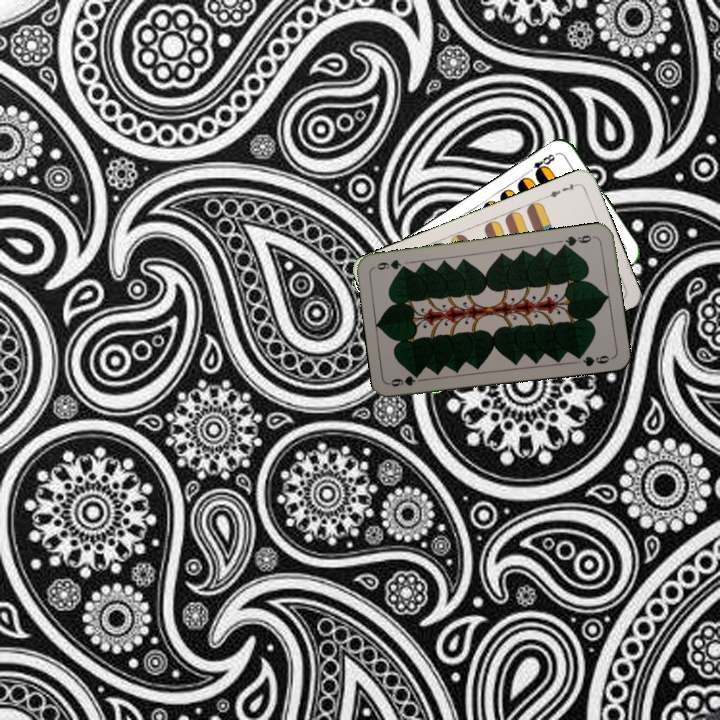E7: (541, 179, 580, 201)
E8: (523, 149, 559, 178)
G9: (558, 231, 598, 250), (386, 372, 421, 389)
